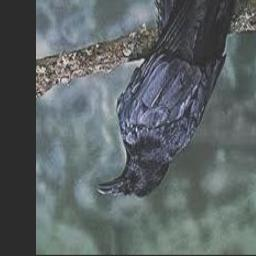Crow: (97, 0, 241, 199)
